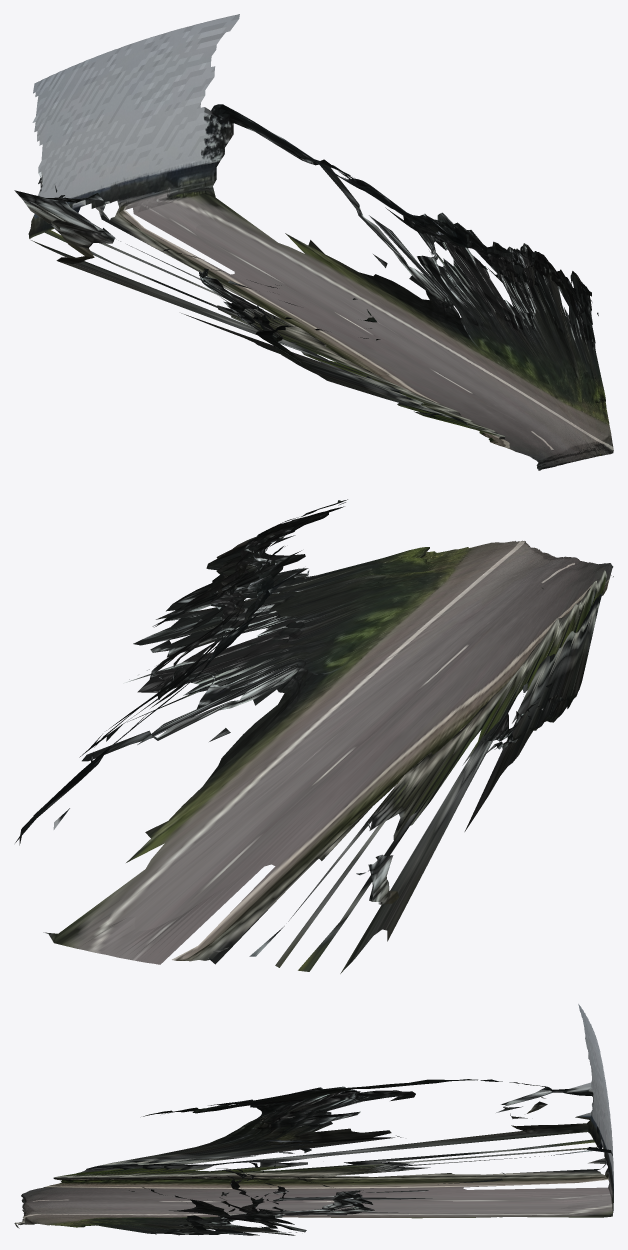
3 views of the same model, one above another, from view 1: azimuth 30°, elevation 25°; view 2: azimuth 150°, elevation 25°; view 3: azimuth 270°, elevation 25° (orthographic). The views are drawn at different scales.
Visible parts, largest first — view 1: defaultobject; view 2: defaultobject; view 3: defaultobject.
Boxes of the visible parts, x1,y1,x2,y2 form: defaultobject: (14,14,613,470); defaultobject: (15,499,613,973); defaultobject: (14,1004,613,1235).
Size of the model in its own units: 23.95 by 11.9 by 44.65.
Materials: 1 (1 with a texture image).
